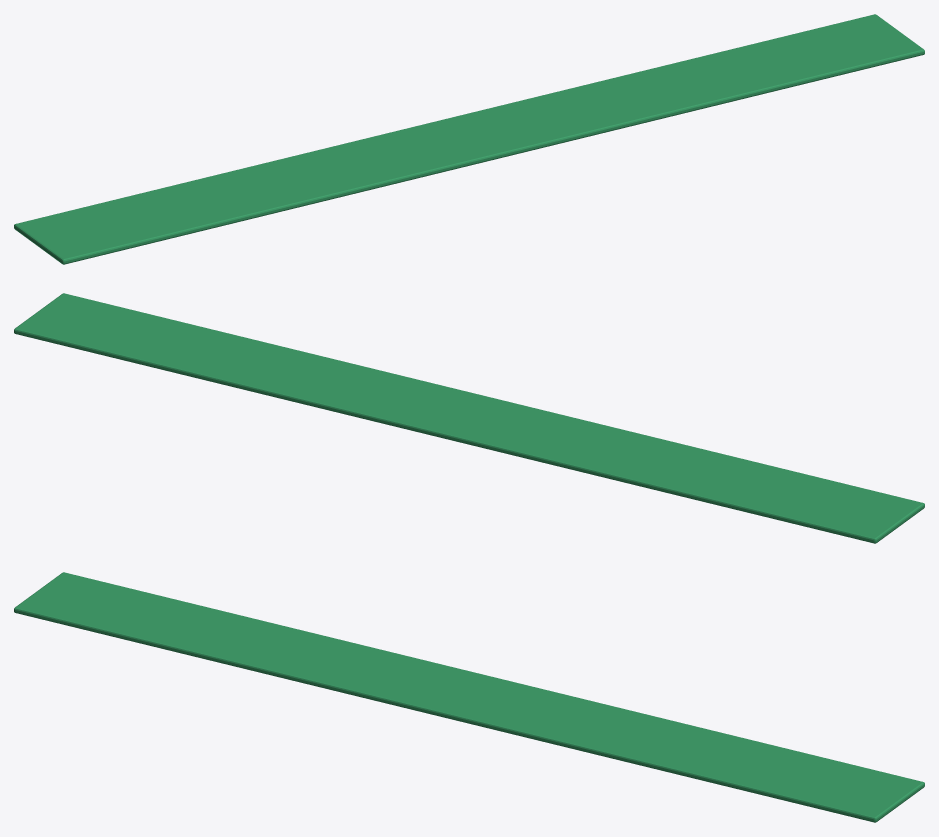
File: base_med_floor_line.glb
3 views of the same model, one above another, from view 1: azimuth 30°, elevation 25°; view 2: azimuth 150°, elevation 25°; view 3: azimuth 330°, elevation 25° (orthographic).
Parts seen in each view (by area): view 1: base_med_floor_line; view 2: base_med_floor_line; view 3: base_med_floor_line.
Boxes of the visible parts, x1=… form: base_med_floor_line: x1=14, y1=14, x2=924, y2=264; base_med_floor_line: x1=14, y1=293, x2=924, y2=543; base_med_floor_line: x1=14, y1=572, x2=924, y2=822.
Bounding box in the file's own units: 2 × 0.012 × 0.2.
1 material, 1 textured.
